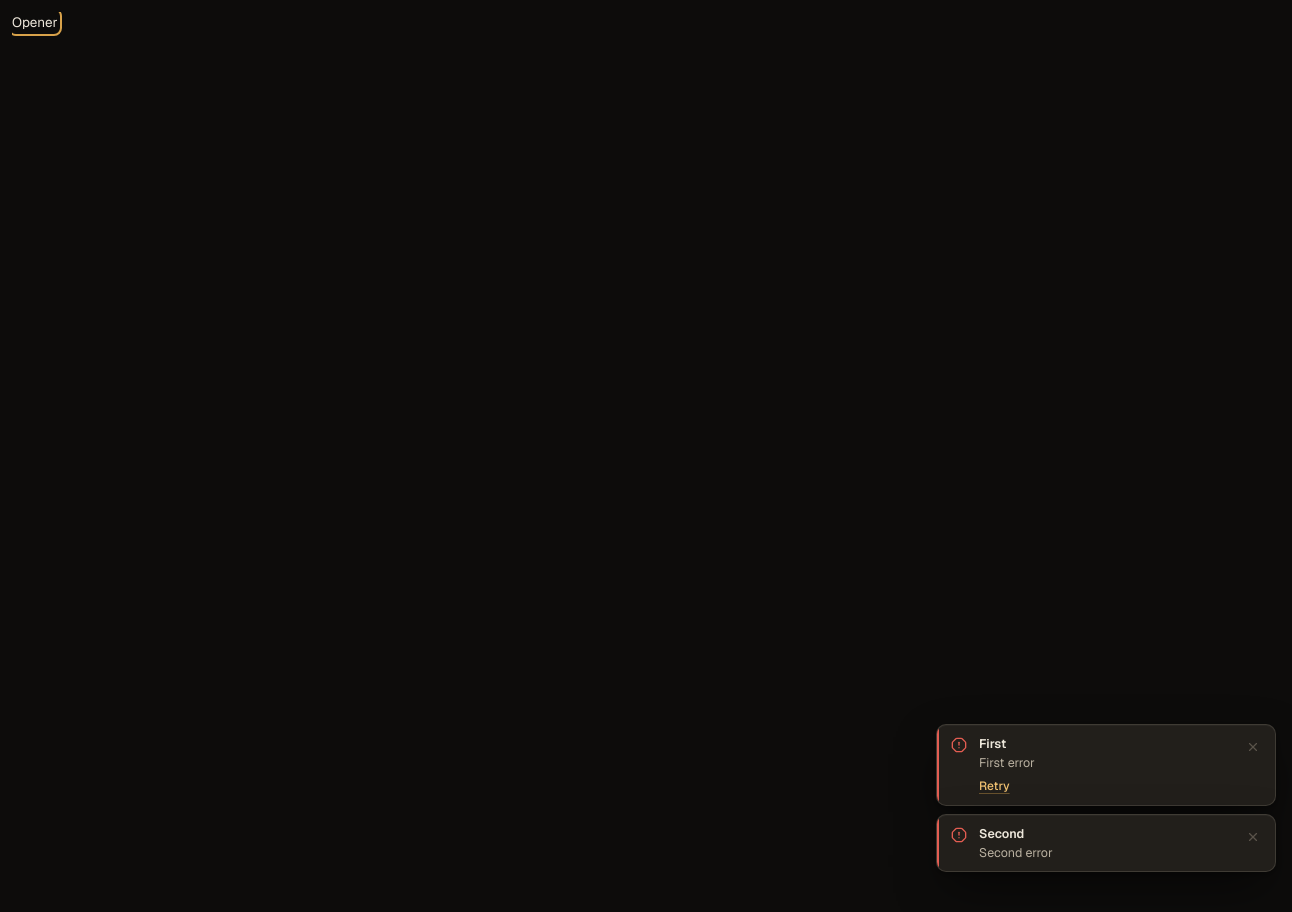
Test: ToastProvider accessibility › runs an action once, keeps the stack, and does not steal focus
The width and height of the screenshot is (1292, 912).
Expected: the number of messages is 2, [936,724,1276,806]; [936,814,1276,872]
Expected: the message "First First error Retry" is shown, [936,724,1276,806]
Click the button "Retry".
click(994, 786)  # box [979,777,1010,795]
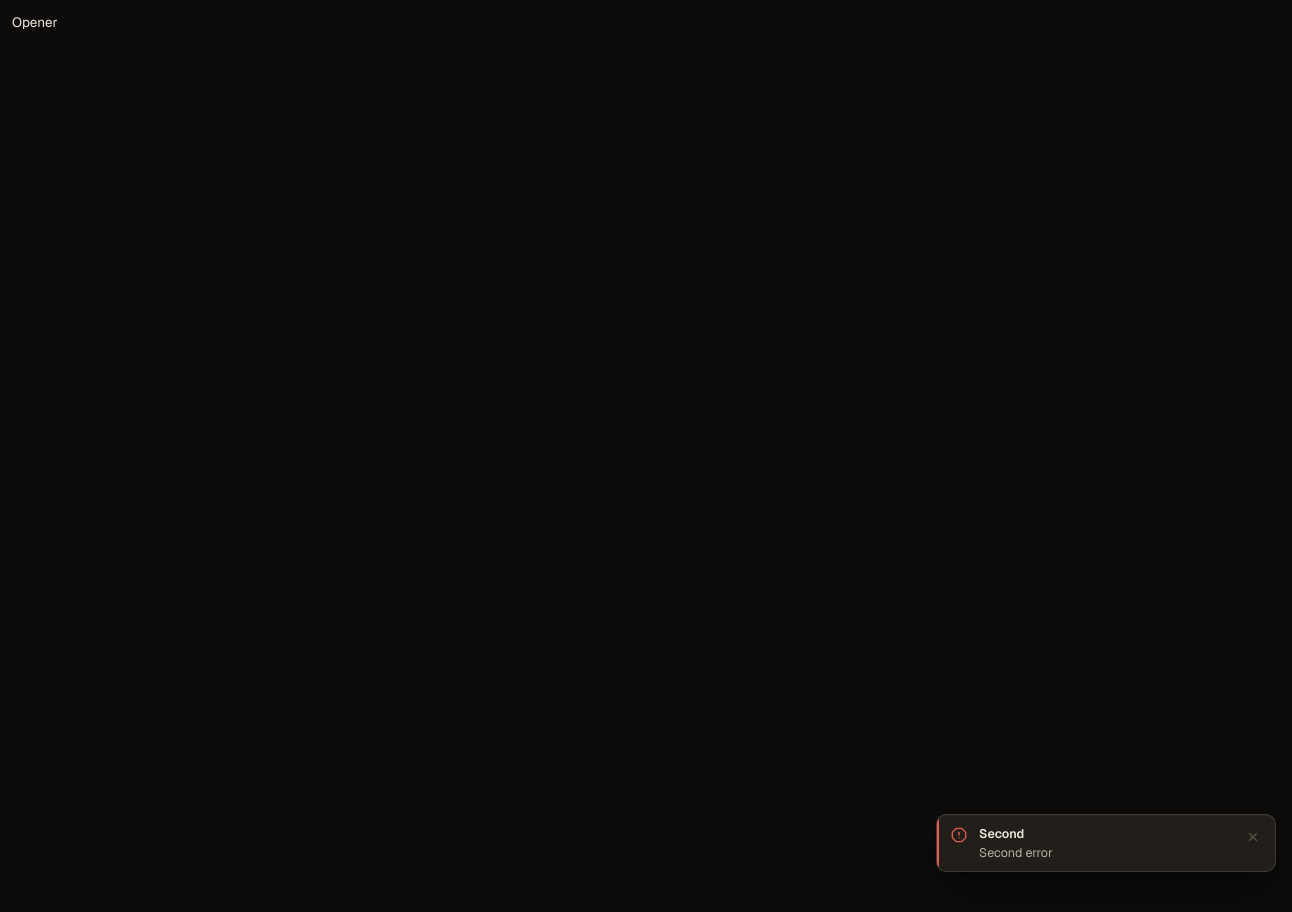
Expected: the text "Second error" is shown, [979,844,1053,861]
Expected: the text "First error" is gone
